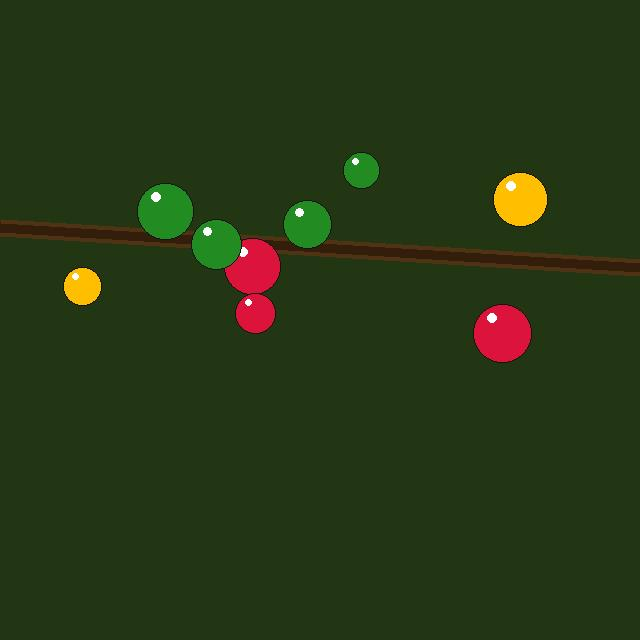Ripe: (473, 304, 531, 362), (224, 238, 280, 294), (235, 293, 275, 333)
Ripening: (493, 172, 547, 226), (63, 267, 101, 305)
Unripe: (137, 183, 193, 239), (191, 219, 241, 269), (283, 200, 331, 248), (343, 152, 379, 188)
